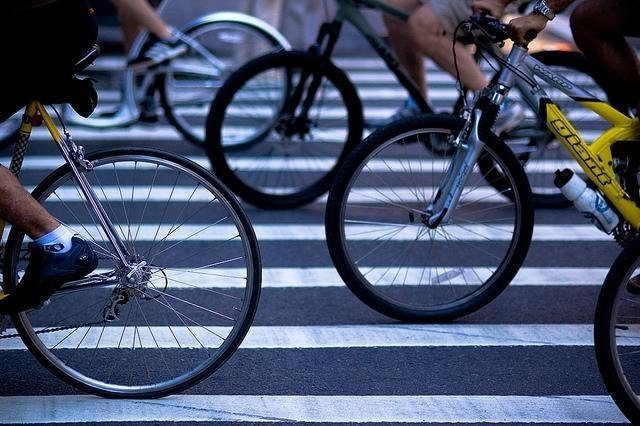bicycle: (329, 5, 638, 421), (2, 47, 258, 402), (206, 0, 630, 212), (62, 0, 290, 150)
